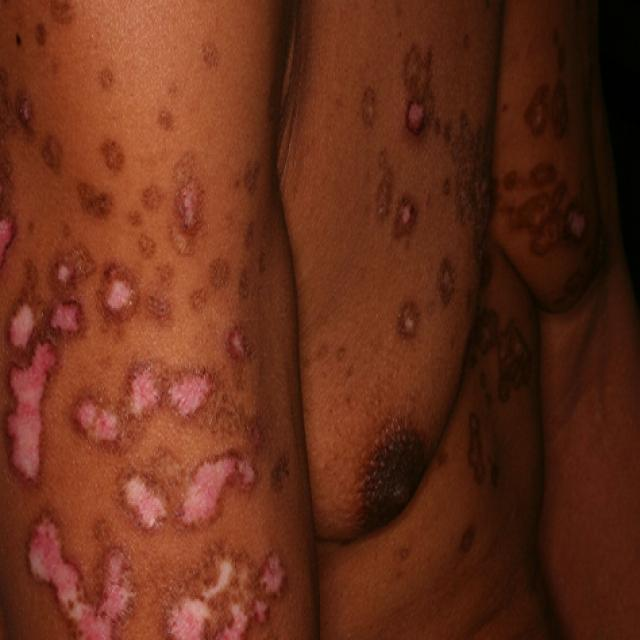lupus: (0, 31, 636, 638)
